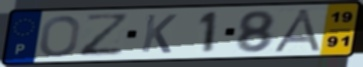1: (196, 10, 220, 55)
8: (233, 9, 277, 54)
A: (270, 7, 326, 53)
K: (139, 13, 179, 55)
O: (38, 14, 83, 59)
Z: (77, 13, 133, 59)
